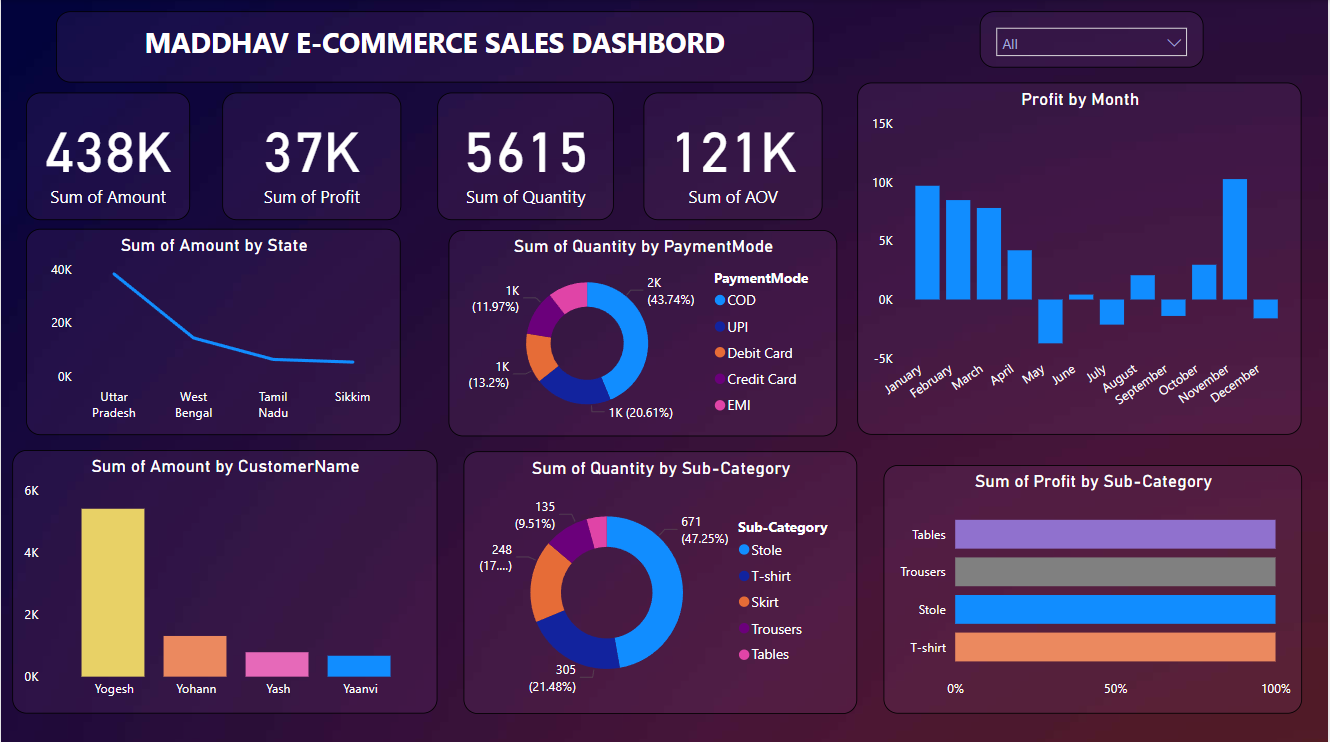

The dashboard page shown, as its layout file describes it:
{"tool":"powerbi","page":{"name":"Madhav E-commerce Sales ","canvas":[1280,720],"ordinal":0},"visuals":[{"type":"columnChart","title":" Profit by Month","fields":{"Category":["Orders.Order Date.Variation.Date Hierarchy.Month"],"Y":["Details.Profit"]},"box":[825.8,80.1,428.9,339.9],"z":0},{"type":"hundredPercentStackedBarChart","fields":{"Category":["Details.Sub-Category"],"Y":["Details.Profit"]},"box":[851.7,448.8,404.2,240.1],"z":1000},{"type":"donutChart","fields":{"Y":["Details.Quantity"],"Category":["Details.Sub-Category"]},"box":[446.4,435.5,380,253.4],"z":2000},{"type":"donutChart","fields":{"Y":["Details.Quantity"],"Category":["Details.PaymentMode"]},"box":[431.9,222,375.2,199.1],"z":3000},{"type":"card","fields":{"Values":["Details.Amount"]},"box":[24.1,89.3,158,123.1],"z":4000},{"type":"card","fields":{"Values":["Details.Profit"]},"box":[213.5,89.3,172.5,123.1],"z":5000},{"type":"card","fields":{"Values":["Details.Quantity"]},"box":[421,89.3,170.1,123.1],"z":6000},{"type":"card","fields":{"Values":["Details.AOV"]},"box":[620.1,89.3,172.5,123.1],"z":7000},{"type":"lineChart","fields":{"Category":["Orders.State"],"Y":["Details.Amount"]},"box":[24.1,220.8,361.9,199.1],"z":8000},{"type":"columnChart","fields":{"Category":["Orders.CustomerName"],"Y":["Details.Amount"]},"box":[10.9,434.3,410.2,254.6],"z":9000},{"type":"slicer","fields":{"Values":["Orders.State"]},"box":[944.6,10.9,216,54.3],"z":10000},{"type":"textbox","box":[53.1,10.9,731.1,68.8],"z":11000}]}

Visuals, with their boxes in screenshot pixels (x1, y1, x2, y2), scaled from the page's 1280x720 canvas onto the 1330x742 screenshot:
" Profit by Month" columnChart: BBox(858, 83, 1304, 433)
hundredPercentStackedBarChart - Details.Sub-Category x Details.Profit: BBox(885, 463, 1305, 710)
donutChart - Details.Quantity x Details.Sub-Category: BBox(464, 449, 859, 710)
donutChart - Details.Quantity x Details.PaymentMode: BBox(449, 229, 839, 434)
card - Details.Amount: BBox(25, 92, 189, 219)
card - Details.Profit: BBox(222, 92, 401, 219)
card - Details.Quantity: BBox(437, 92, 614, 219)
card - Details.AOV: BBox(644, 92, 824, 219)
lineChart - Orders.State x Details.Amount: BBox(25, 228, 401, 433)
columnChart - Orders.CustomerName x Details.Amount: BBox(11, 448, 438, 710)
slicer - Orders.State: BBox(981, 11, 1206, 67)
textbox: BBox(55, 11, 815, 82)
